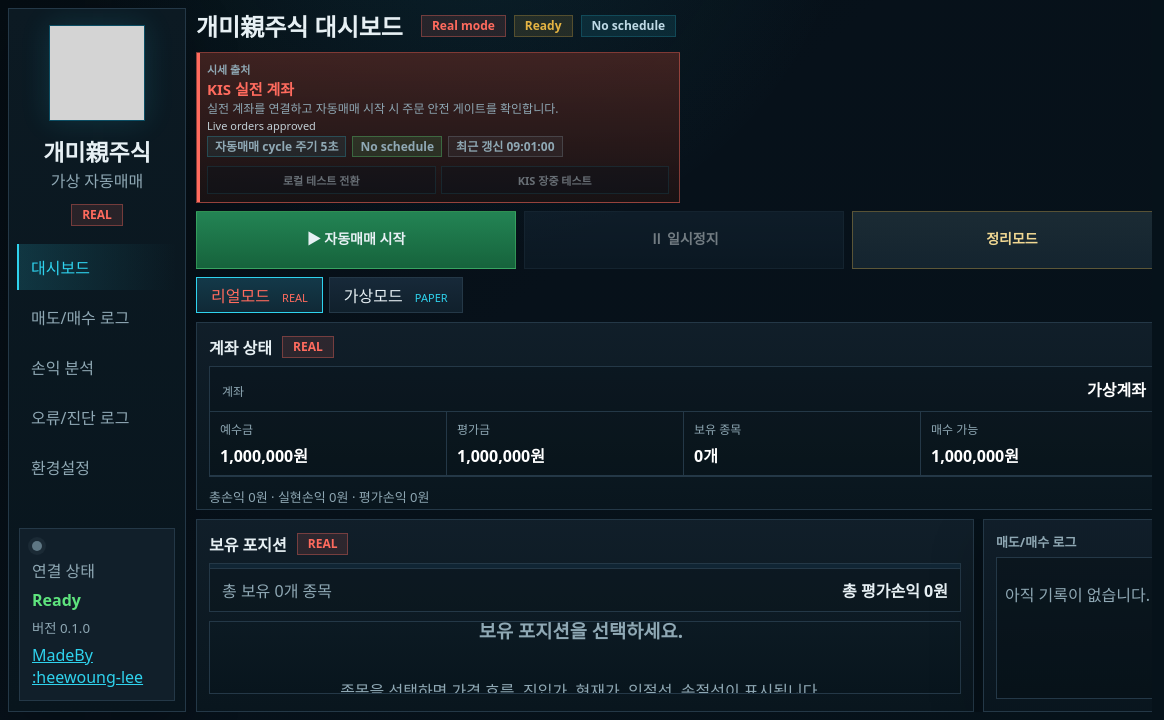
Scenario: Electron dashboard app shell › keeps the real start button disabled after the backend reports a running live runtime
The image size is (1164, 720).
Click the button "▶ 자동매매 시작" at (356, 240), box x1=196 y1=211 x2=516 y2=269
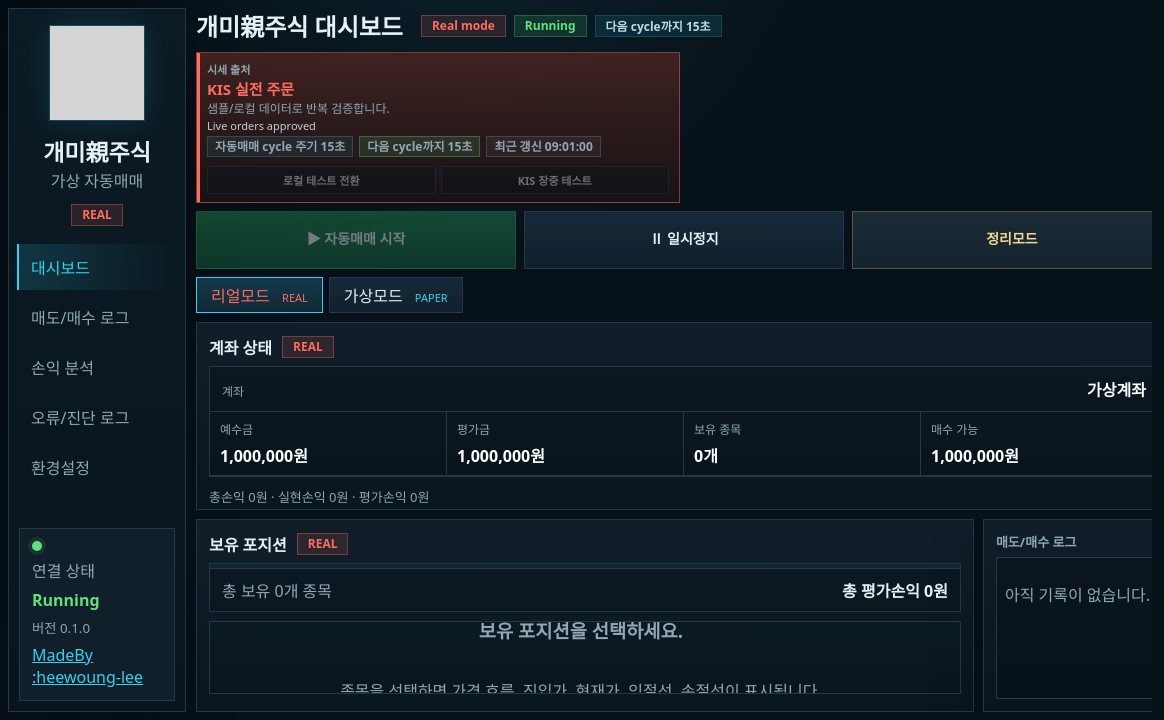
Check: the button "▶ 자동매매 시작" is disabled, box x1=196 y1=211 x2=516 y2=269
